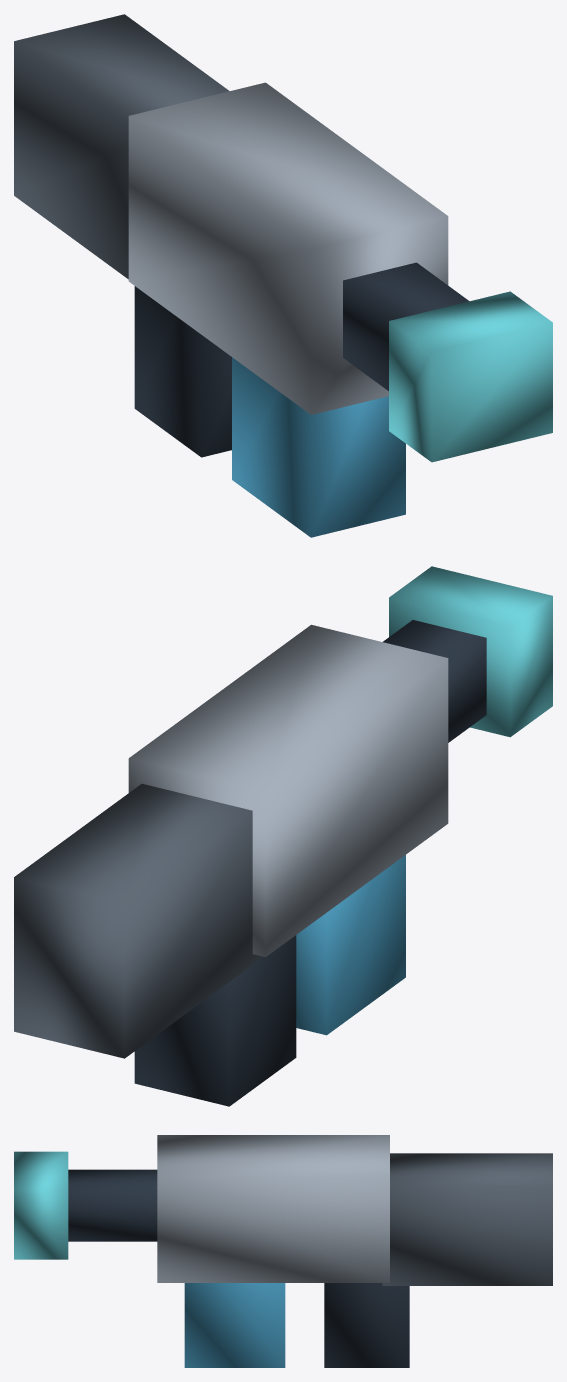
Rendered from twinfangs.glb.
The picture shows the model from 3 angles, top to bottom: view 1: azimuth 30°, elevation 25°; view 2: azimuth 150°, elevation 25°; view 3: azimuth 270°, elevation 25°; orthographic projection. The views are drawn at different scales.
Visible parts, largest first — view 1: Hardware; view 2: Hardware; view 3: Hardware.
Part boxes in pixels (x1,y1,x2,y2): Hardware: [14, 14, 552, 537]; Hardware: [14, 566, 552, 1106]; Hardware: [14, 1135, 552, 1367].
Bounding box in the file's own units: 0.13 × 0.28 × 0.695.
